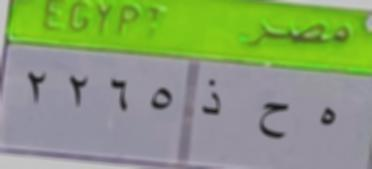5: (146, 82, 174, 116)
6: (106, 73, 132, 114)
7aa: (253, 97, 294, 146)
haa: (312, 98, 341, 136)
zaal: (198, 77, 224, 119)
